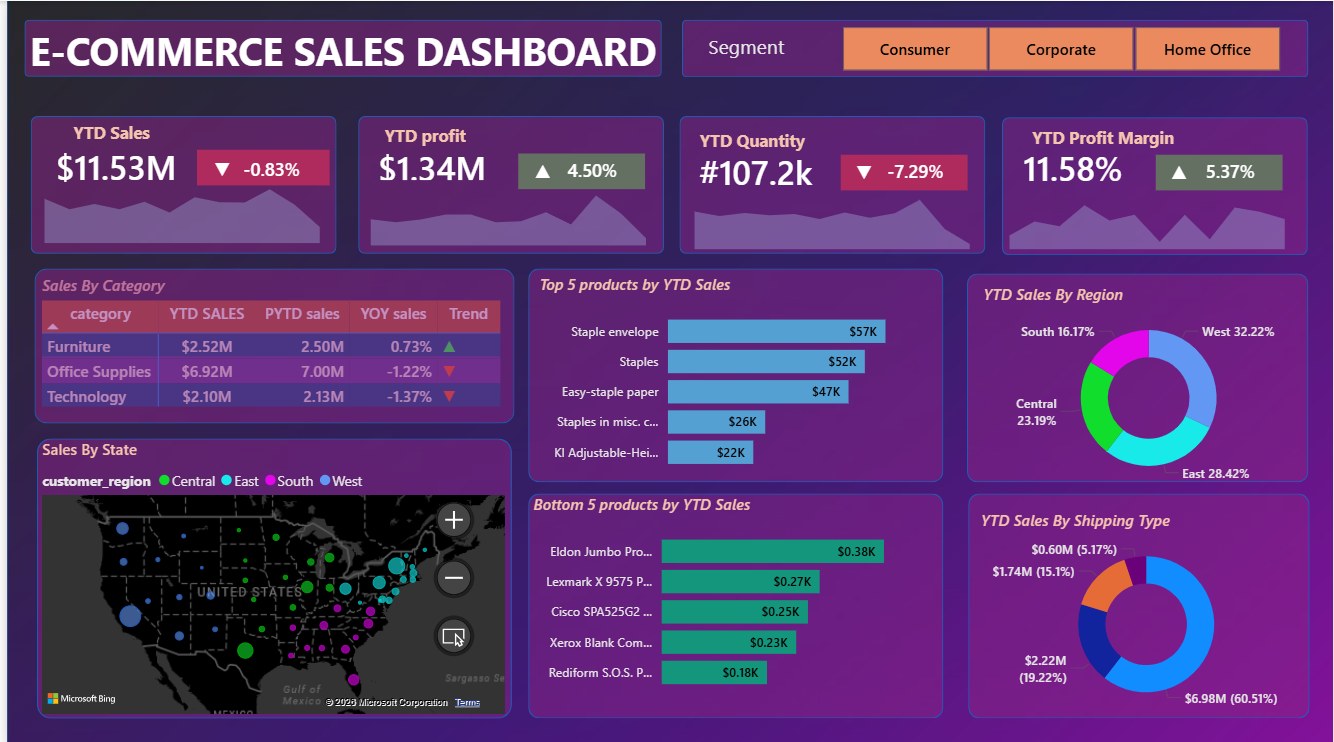

Layout of this report page (visuals, bound fields, positions):
{"tool":"powerbi","page":{"name":"Page 1","canvas":[1280,720],"ordinal":0},"visuals":[{"type":"shape","box":[183.9,144.1,127.6,34.3],"z":0},{"type":"shape","box":[16.5,17.8,615,55],"z":1000},{"type":"textbox","box":[16.9,18.1,616.5,63.9],"z":2000},{"type":"shape","box":[23.3,111.1,295,133.1],"z":3000},{"type":"cardVisual","fields":{"Data":["ecommerce_data_excel.YTD SALES"]},"box":[16.5,126.2,177,65.9],"z":4000},{"type":"areaChart","fields":{"Category":["calendar.month"],"Y":["Sum(ecommerce_data_excel.sales_per_order)"]},"box":[22,159.2,295,79.6],"z":5000},{"type":"cardVisual","fields":{"Data":["ecommerce_data_excel.YOY sales"]},"box":[197.9,132.7,115.8,56.7],"z":6000},{"type":"cardVisual","fields":{"Data":["ecommerce_data_excel.Sales icon"]},"box":[171.3,132.7,73.6,56.7],"z":7000},{"type":"textbox","box":[59.1,111,92.9,32.6],"z":8000},{"type":"shape","box":[494,146.8,122.1,34.3],"z":9000},{"type":"shape","box":[338.9,111.1,295,133.1],"z":10000},{"type":"cardVisual","fields":{"Data":["ecommerce_data_excel.YTD profit"]},"box":[329.3,129,166,61.7],"z":11000},{"type":"areaChart","fields":{"Category":["calendar.month"],"Y":["Sum(ecommerce_data_excel.profit_per_order)"]},"box":[336.2,172.9,295,68.6],"z":12000},{"type":"cardVisual","fields":{"Data":["ecommerce_data_excel.YOY profit"]},"box":[493.4,132.7,143.6,57.9],"z":13000},{"type":"cardVisual","fields":{"Data":["ecommerce_data_excel.profit icon"]},"box":[478.9,135.8,76.8,52.1],"z":14000},{"type":"textbox","box":[359.5,113.4,107.4,33.8],"z":15000},{"type":"shape","box":[804.8,148,122.1,34.3],"z":16000},{"type":"shape","box":[649.1,111.1,295,133.1],"z":17000},{"type":"cardVisual","fields":{"Data":["ecommerce_data_excel.Qty icon"]},"box":[789,137.2,76.8,52.1],"z":18000},{"type":"textbox","box":[663.5,118.2,125.5,32.6],"z":19000},{"type":"cardVisual","fields":{"Data":["ecommerce_data_excel.YTD Conacatenated Qty"]},"box":[639.5,124.9,188,76.8],"z":20000},{"type":"areaChart","fields":{"Category":["calendar.month"],"Y":["Sum(ecommerce_data_excel.order_quantity)"]},"box":[649.1,175.6,295,68.6],"z":21000},{"type":"cardVisual","fields":{"Data":["ecommerce_data_excel.YOY Qty"]},"box":[804.1,134.5,144.1,57.6],"z":22000},{"type":"shape","box":[1109,148.2,122.1,34.3],"z":23000},{"type":"shape","box":[960.6,112.5,295,133.1],"z":24000},{"type":"cardVisual","fields":{"Data":["ecommerce_data_excel.profit Margin icon"]},"box":[1093.2,137.3,76.8,52.1],"z":25000},{"type":"textbox","box":[983.9,115.3,163.3,32.9],"z":26000},{"type":"areaChart","fields":{"Category":["calendar.month"],"Y":["ecommerce_data_excel.Profit margin"]},"box":[953.3,175.8,295,68.6],"z":27000},{"type":"cardVisual","fields":{"Data":["ecommerce_data_excel.YOY Profit Margin"]},"box":[1108.8,134.5,144.1,57.6],"z":28000},{"type":"cardVisual","fields":{"Data":["ecommerce_data_excel.YTD Profit margin"]},"box":[952.3,124.9,156.4,67.2],"z":29000},{"type":"pivotTable","title":"Sales By Category","fields":{"Rows":["ecommerce_data_excel.category_name"],"Values":["ecommerce_data_excel.YTD SALES","ecommerce_data_excel.PYTD sales","ecommerce_data_excel.YOY sales","ecommerce_data_excel.Sales icon"]},"box":[29,264.2,454.8,137.5],"z":30000},{"type":"shape","box":[28.8,422.6,458.3,270.3],"z":32000},{"type":"map","title":"Sales By State","fields":{"Y":["us_state_long_lat_codes.latitude"],"X":["us_state_long_lat_codes.longitude"],"Size":["ecommerce_data_excel.YTD SALES"],"Series":["ecommerce_data_excel.customer_region"]},"box":[29,422.3,457.2,270.2],"z":32001},{"type":"shape","box":[503.1,258.2,400.5,206.3],"z":32002},{"type":"shape","box":[503.1,475.3,400.5,217.2],"z":32003},{"type":"barChart","title":"Top 5 products by YTD Sales","fields":{"Category":["ecommerce_data_excel.product_name"],"Y":["ecommerce_data_excel.YTD SALES"]},"box":[509.1,263,388.5,201.5],"z":32004},{"type":"barChart","title":"Bottom 5 products by YTD Sales","fields":{"Category":["ecommerce_data_excel.product_name"],"Y":["ecommerce_data_excel.YTD SALES"]},"box":[503.6,474.8,388.3,201.7],"z":32005},{"type":"shape","box":[926.5,263,329.4,201.5],"z":32009},{"type":"shape","box":[927.8,475.3,329.4,217.2],"z":32010},{"type":"donutChart","title":"YTD Sales By Shipping Type","fields":{"Y":["ecommerce_data_excel.YTD SALES"],"Category":["ecommerce_data_excel.shipping_type"]},"box":[935,491,329.4,201.5],"z":32012},{"type":"donutChart","title":"YTD Sales By Region","fields":{"Category":["ecommerce_data_excel.customer_region"],"Y":["ecommerce_data_excel.YTD SALES"]},"box":[937.8,273,329.4,201.5],"z":32013},{"type":"shape","box":[651.5,18.1,604.4,55.5],"z":32014},{"type":"slicer","fields":{"Values":["ecommerce_data_excel.customer_segment"]},"box":[780.6,18.1,471.7,55.5],"z":32015},{"type":"textbox","box":[672,26.5,132.7,39.8],"z":32016},{"type":"shape","box":[26.5,258.2,463.3,149.6],"z":32017}]}

Visuals, with their boxes in screenshot pixels (x1, y1, x2, y2), scaled from the page's 1280x720 canvas onto the 1334x742 screenshot:
shape: bbox=(192, 149, 325, 184)
shape: bbox=(17, 18, 658, 75)
textbox: bbox=(18, 19, 660, 85)
shape: bbox=(24, 114, 332, 252)
cardVisual - ecommerce_data_excel.YTD SALES: bbox=(17, 130, 202, 198)
areaChart - calendar.month x Sum(ecommerce_data_excel.sales_per_order): bbox=(23, 164, 330, 246)
cardVisual - ecommerce_data_excel.YOY sales: bbox=(206, 137, 327, 195)
cardVisual - ecommerce_data_excel.Sales icon: bbox=(179, 137, 255, 195)
textbox: bbox=(62, 114, 158, 148)
shape: bbox=(515, 151, 642, 187)
shape: bbox=(353, 114, 661, 252)
cardVisual - ecommerce_data_excel.YTD profit: bbox=(343, 133, 516, 197)
areaChart - calendar.month x Sum(ecommerce_data_excel.profit_per_order): bbox=(350, 178, 658, 249)
cardVisual - ecommerce_data_excel.YOY profit: bbox=(514, 137, 664, 196)
cardVisual - ecommerce_data_excel.profit icon: bbox=(499, 140, 579, 194)
textbox: bbox=(375, 117, 487, 152)
shape: bbox=(839, 153, 966, 188)
shape: bbox=(676, 114, 984, 252)
cardVisual - ecommerce_data_excel.Qty icon: bbox=(822, 141, 902, 195)
textbox: bbox=(691, 122, 822, 155)
cardVisual - ecommerce_data_excel.YTD Conacatenated Qty: bbox=(666, 129, 862, 208)
areaChart - calendar.month x Sum(ecommerce_data_excel.order_quantity): bbox=(676, 181, 984, 252)
cardVisual - ecommerce_data_excel.YOY Qty: bbox=(838, 139, 988, 198)
shape: bbox=(1156, 153, 1283, 188)
shape: bbox=(1001, 116, 1309, 253)
cardVisual - ecommerce_data_excel.profit Margin icon: bbox=(1139, 141, 1219, 195)
textbox: bbox=(1025, 119, 1196, 153)
areaChart - calendar.month x ecommerce_data_excel.Profit margin: bbox=(994, 181, 1301, 252)
cardVisual - ecommerce_data_excel.YOY Profit Margin: bbox=(1156, 139, 1306, 198)
cardVisual - ecommerce_data_excel.YTD Profit margin: bbox=(992, 129, 1155, 198)
"Sales By Category" pivotTable: bbox=(30, 272, 504, 414)
shape: bbox=(30, 436, 508, 714)
"Sales By State" map: bbox=(30, 435, 507, 714)
shape: bbox=(524, 266, 942, 479)
shape: bbox=(524, 490, 942, 714)
"Top 5 products by YTD Sales" barChart: bbox=(531, 271, 935, 479)
"Bottom 5 products by YTD Sales" barChart: bbox=(525, 489, 930, 697)
shape: bbox=(966, 271, 1309, 479)
shape: bbox=(967, 490, 1310, 714)
"YTD Sales By Shipping Type" donutChart: bbox=(974, 506, 1318, 714)
"YTD Sales By Region" donutChart: bbox=(977, 281, 1321, 489)
shape: bbox=(679, 19, 1309, 76)
slicer - ecommerce_data_excel.customer_segment: bbox=(814, 19, 1305, 76)
textbox: bbox=(700, 27, 839, 68)
shape: bbox=(28, 266, 510, 420)
